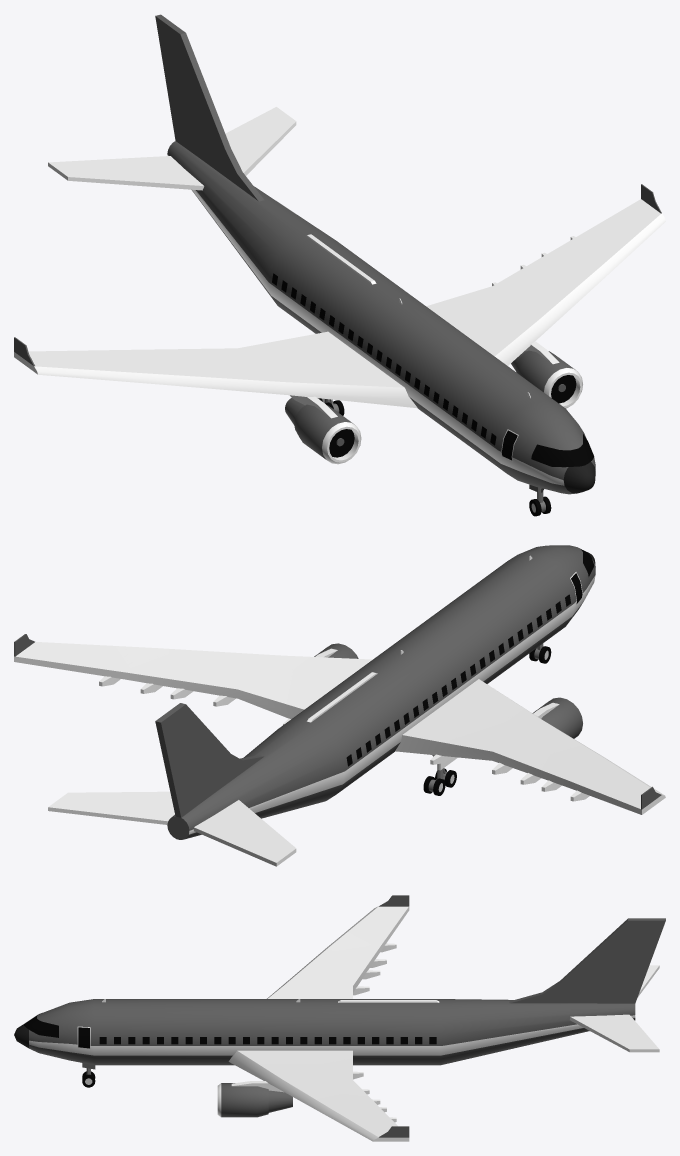
Rendered from Airplane(gray).fbx.
3 views of the same model, one above another, from view 1: azimuth 30°, elevation 25°; view 2: azimuth 150°, elevation 25°; view 3: azimuth 270°, elevation 25° (orthographic). The views are drawn at different scales.
Parts seen in each view (by area): view 1: Airplane; view 2: Airplane; view 3: Airplane.
Part boxes in pixels (x1,y1,x2,y2): Airplane: [14, 14, 665, 516]; Airplane: [14, 545, 665, 866]; Airplane: [14, 895, 665, 1141].
Bounding box in the file's own units: 4670 × 1558 × 5560.
Materials: 1 (1 with a texture image).
